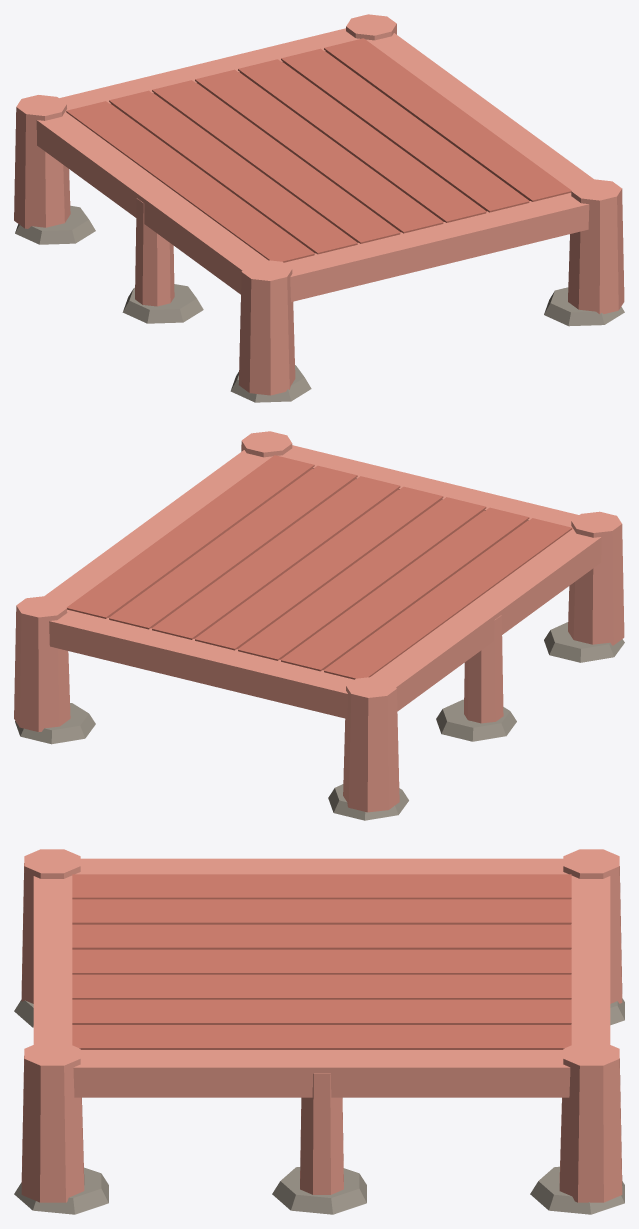
Rendered from goat-shelter-foundation.glb.
The picture shows the model from 3 angles, top to bottom: view 1: azimuth 30°, elevation 25°; view 2: azimuth 150°, elevation 25°; view 3: azimuth 270°, elevation 25°; orthographic projection. The views are drawn at different scales.
Parts seen in each view (by area): view 1: floor, stilts_sills, stone_pads; view 2: floor, stilts_sills, stone_pads; view 3: floor, stilts_sills, stone_pads.
Boxes of the visible parts, box(x1,y1,x2,y2) form: floor: box(66, 38, 571, 262); stilts_sills: box(14, 14, 624, 395); stone_pads: box(15, 205, 624, 402); floor: box(66, 455, 572, 679); stilts_sills: box(14, 431, 624, 812); stone_pads: box(15, 622, 624, 820); floor: box(72, 874, 571, 1049); stilts_sills: box(21, 849, 622, 1202); stone_pads: box(14, 998, 624, 1214).
Bounding box in the file's own units: 2.55 × 0.77 × 2.94.
